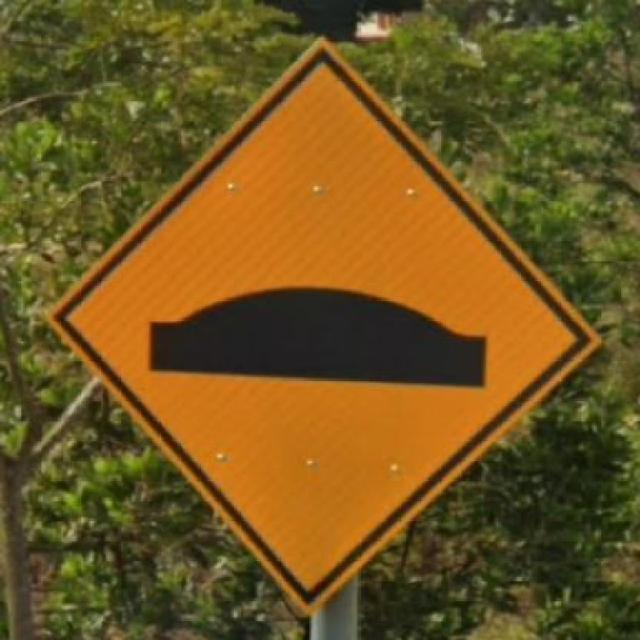Polisi Tidur: (40, 33, 608, 622)
